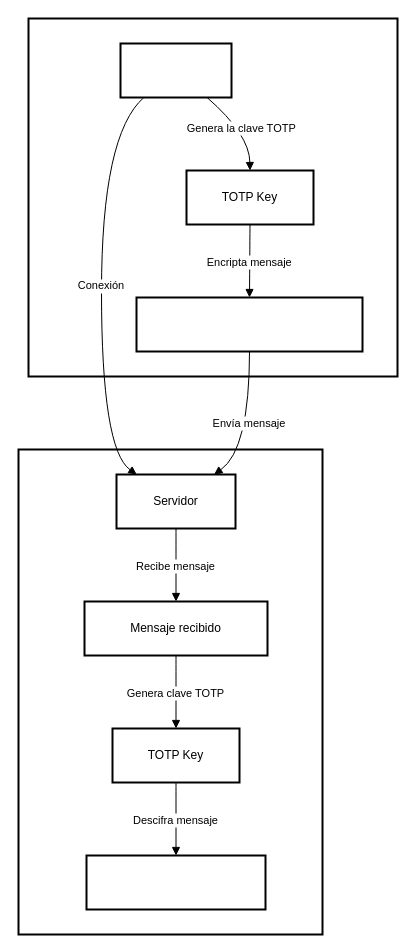
Image size: 415x952. Some labels were removed from this diagram. The shapes that lost their labels are listed below. From the top down, each one's centre as x and y in pixels, then its label:
the point at 175,70: Cliente
the point at 249,324: AES Encrypted Message
the point at 175,882: Mensaje Original
